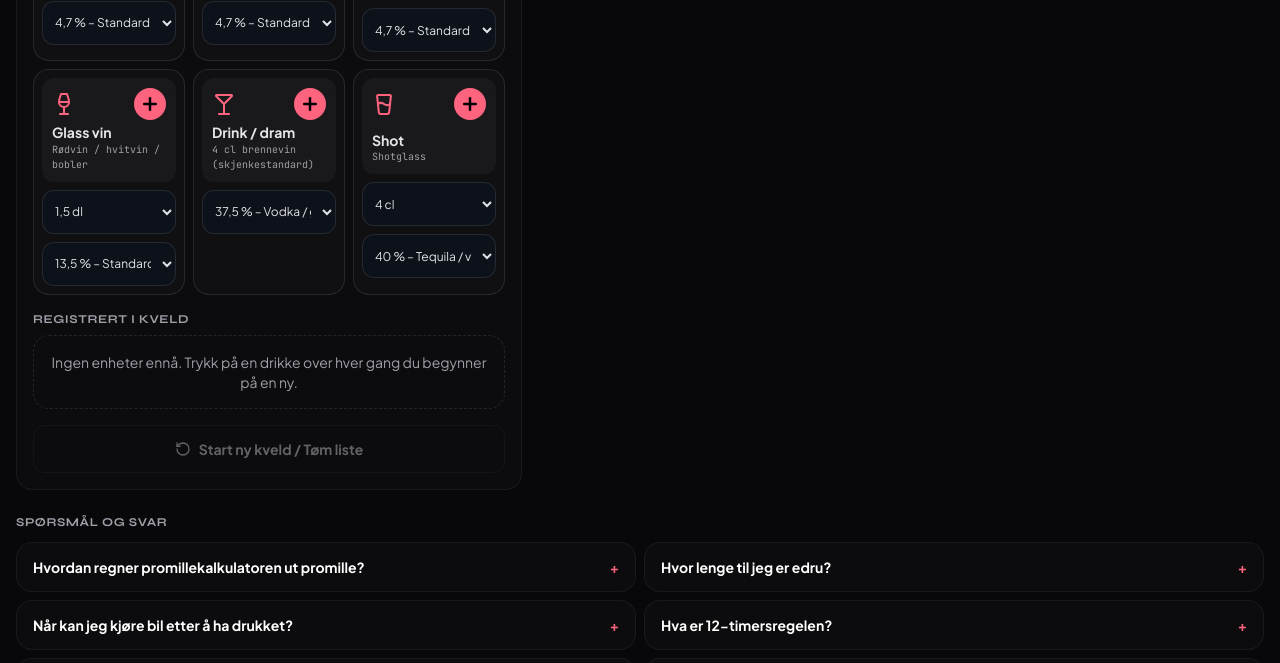
it: Kraft Promille › bruker valgt styrke på enheten
(page scrolled)
Step 1. Select "14,5 % – Kraftig rødvin" in the dropdown named "Styrke, glass vin" → (109, 264), box [42,242,176,286]
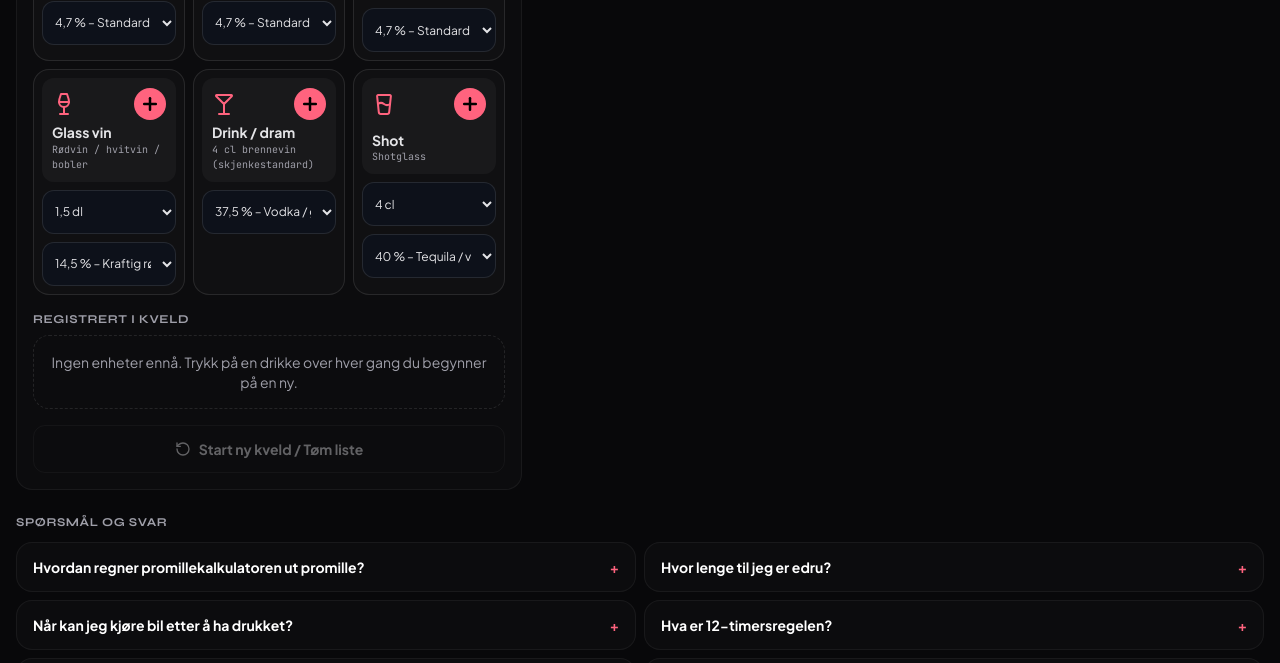
Step 2. Click the button named "Legg til Glass vin" → (109, 130), box [42,78,176,182]
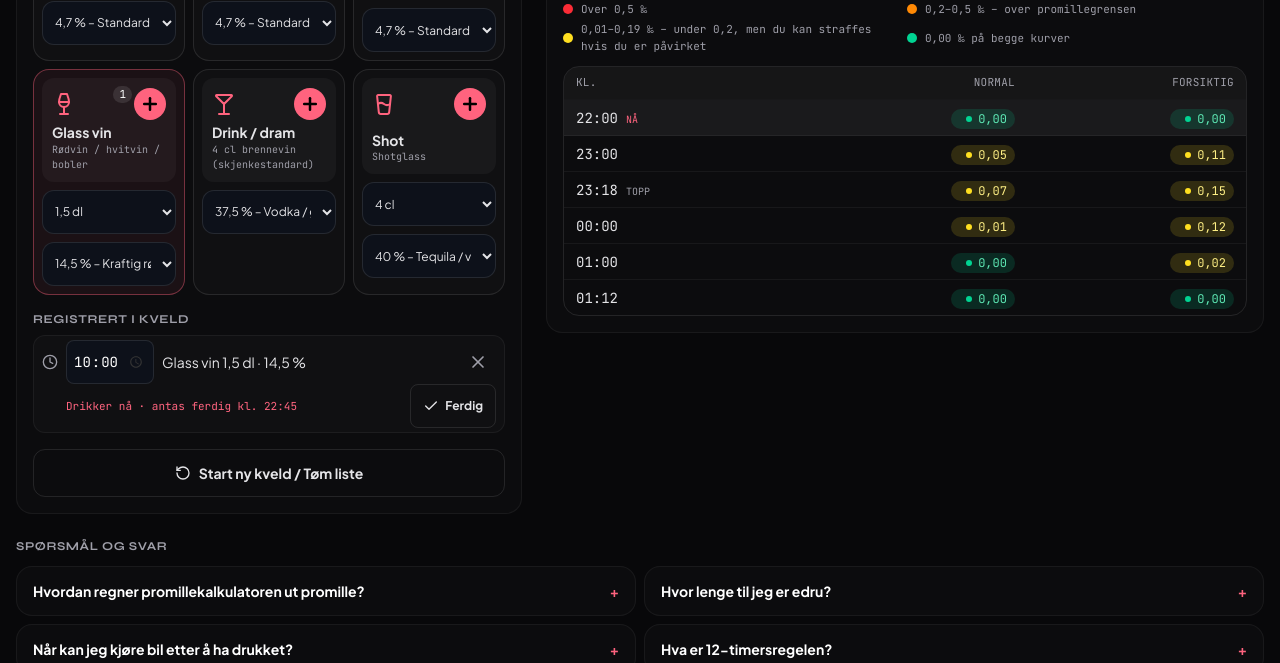
Expected: the time field named "Klokkeslett for Glass vin 1,5 dl · 14,5 %" is shown, [66,340,154,384]
